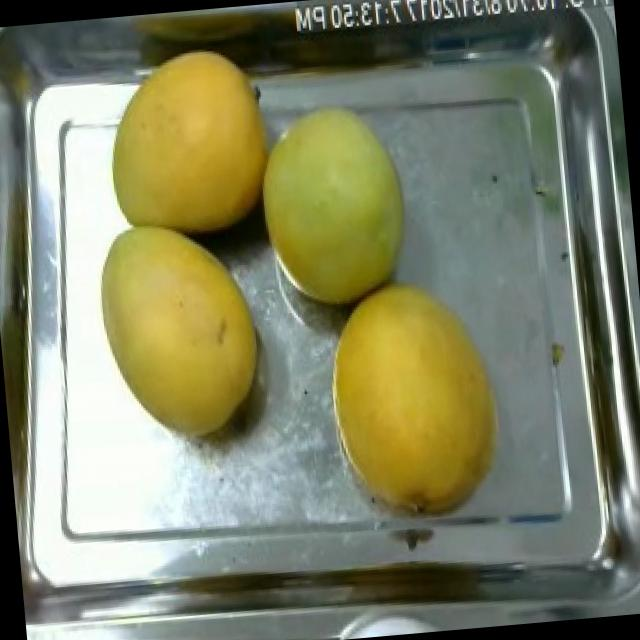fruit: (309, 267, 520, 533), (79, 208, 281, 462), (91, 28, 295, 254), (243, 91, 423, 322)
